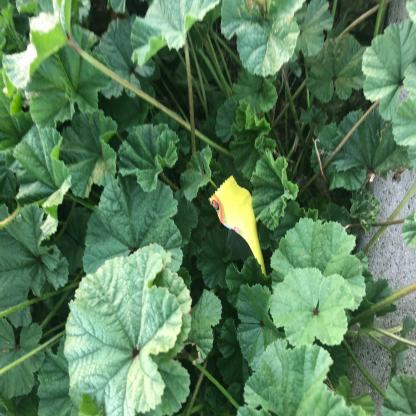trash: (94, 271, 192, 368)
